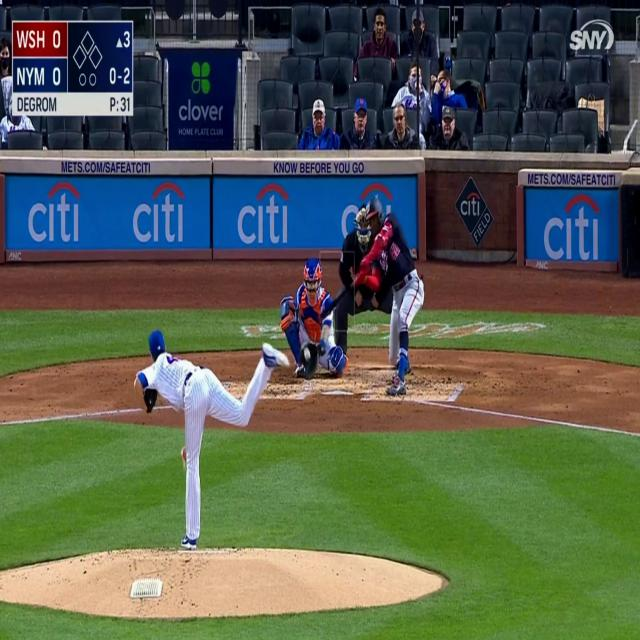baseball: (304, 348, 311, 361)
